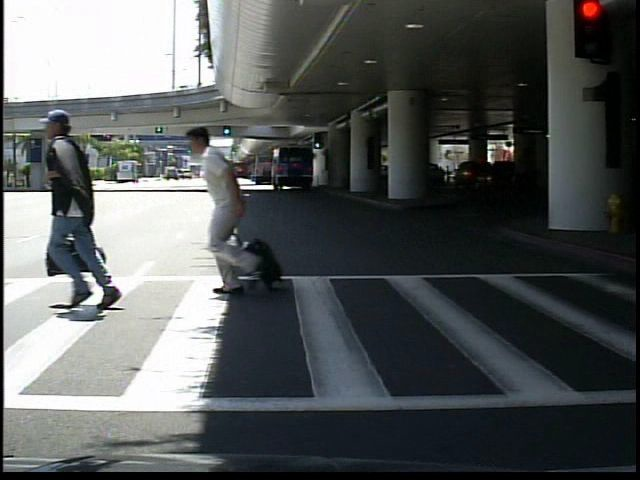person: (45, 110, 134, 315), (195, 117, 270, 296)
